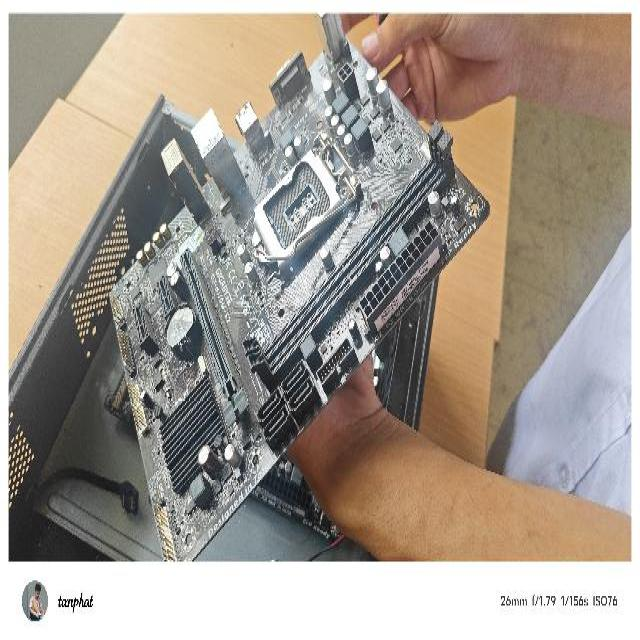Mainboard: (105, 35, 490, 560)
